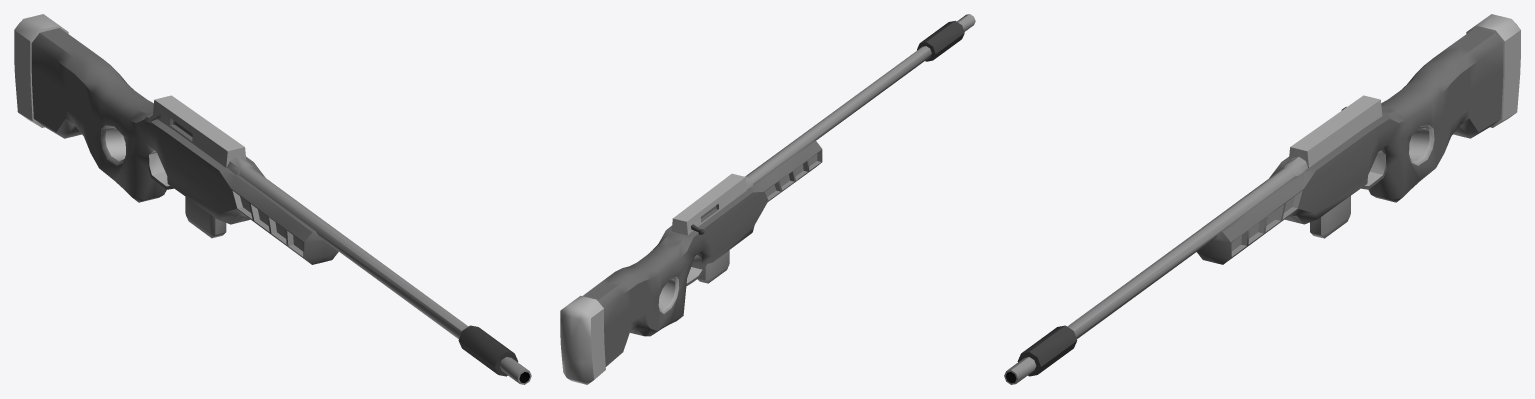
The model's file is 15-Long-range-rifle.glb.
3 views of the same model, side by side, from view 1: azimuth 30°, elevation 25°; view 2: azimuth 150°, elevation 25°; view 3: azimuth 330°, elevation 25° (orthographic). The views are drawn at different scales.
Parts seen in each view (by area): view 1: Long range rifle; view 2: Long range rifle; view 3: Long range rifle.
Boxes of the visible parts, x1=… form: Long range rifle: x1=14, y1=14, x2=531, y2=384; Long range rifle: x1=560, y1=14, x2=975, y2=384; Long range rifle: x1=1004, y1=14, x2=1520, y2=384.
Bounding box in the file's own units: 0.0603 × 0.1538 × 1.2.
1 material, 1 textured.
